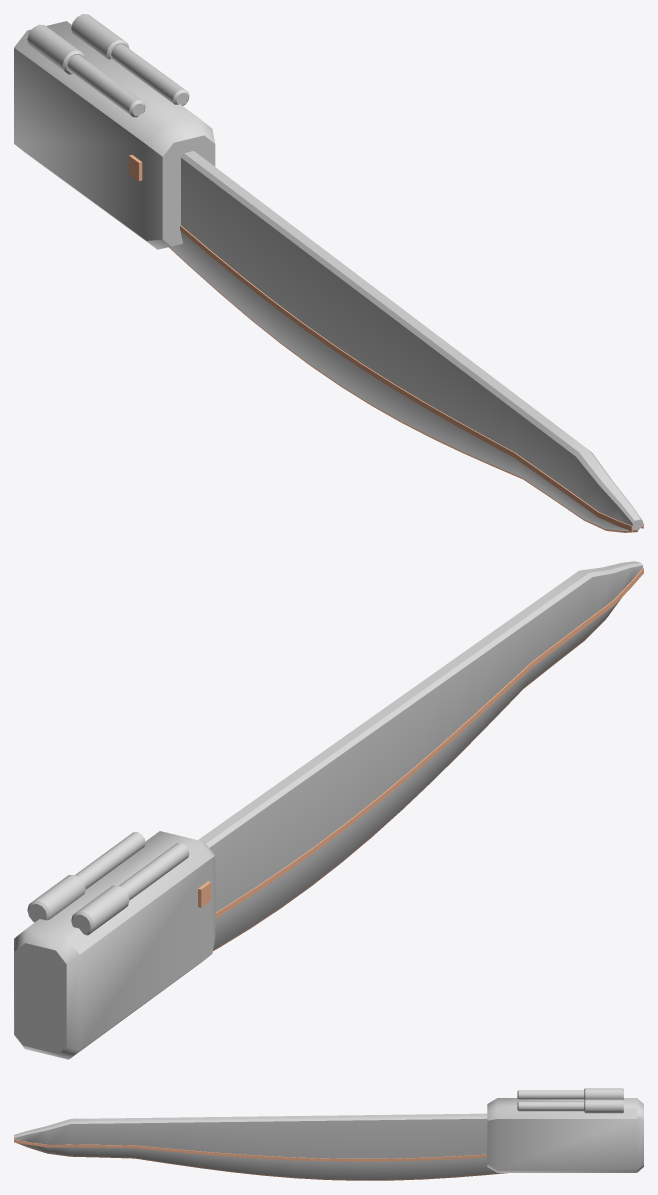
File: sentinel_blade.fbx
The picture shows the model from 3 angles, top to bottom: view 1: azimuth 30°, elevation 25°; view 2: azimuth 150°, elevation 25°; view 3: azimuth 270°, elevation 25°; orthographic projection. The views are drawn at different scales.
Parts seen in each view (by area): view 1: sentinel_blade; view 2: sentinel_blade; view 3: sentinel_blade.
Part boxes in pixels (<box>): sentinel_blade: <box>14,14,643,532</box>; sentinel_blade: <box>14,561,643,1059</box>; sentinel_blade: <box>14,1088,643,1180</box>.
Bounding box in the file's own units: 0.0635 × 0.1429 × 0.945.
